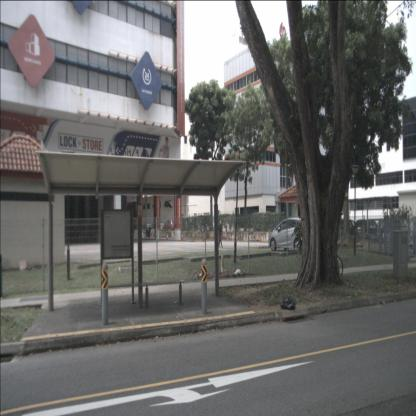human-pedestrian-adult: (218, 219, 223, 248)
movable_object-trafficcone: (232, 232, 235, 242), (202, 233, 205, 242), (181, 233, 184, 240), (377, 226, 379, 236), (260, 233, 262, 242), (166, 233, 168, 241), (192, 233, 194, 240)
vehicle-car: (269, 216, 308, 252), (331, 218, 363, 243), (348, 219, 378, 244), (139, 223, 153, 238), (163, 219, 176, 233), (152, 219, 164, 230)
